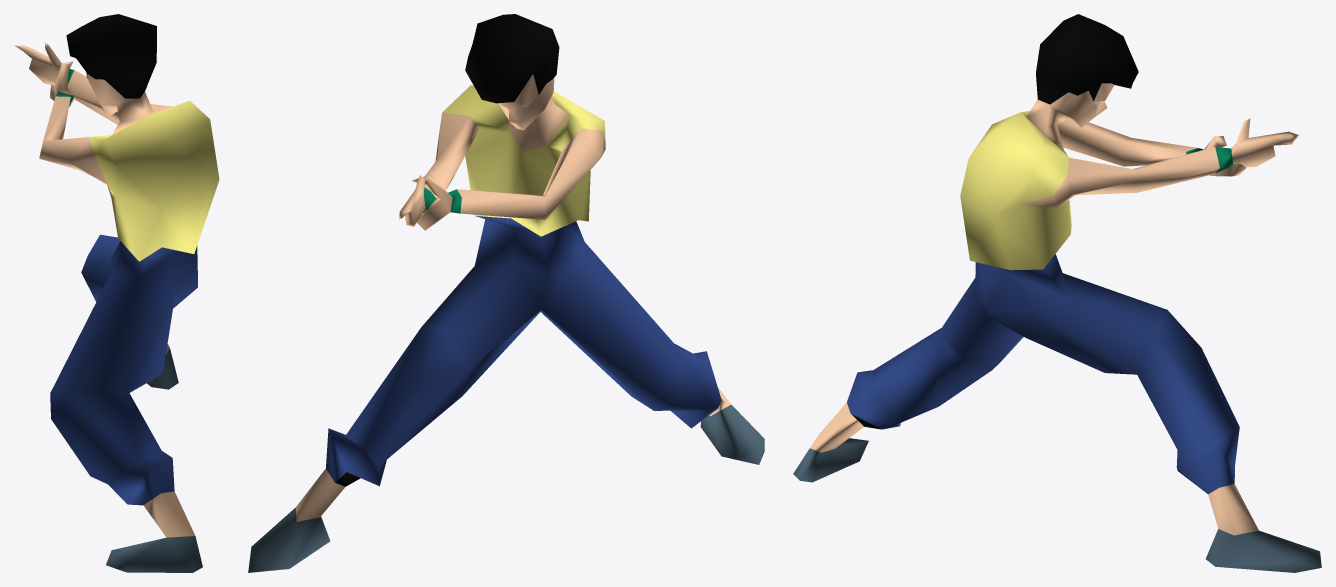
Rendered from yuyu.ico.obj.
3 renders of one model, left to right at view 1: azimuth 30°, elevation 25°; view 2: azimuth 150°, elevation 25°; view 3: azimuth 270°, elevation 25°, orthographic. The views are drawn at different scales.
Bounding box in the file's own units: 2.1 × 3.58 × 3.55.
1 material, 1 textured.
